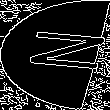N_E: (6, 31, 104, 79)
